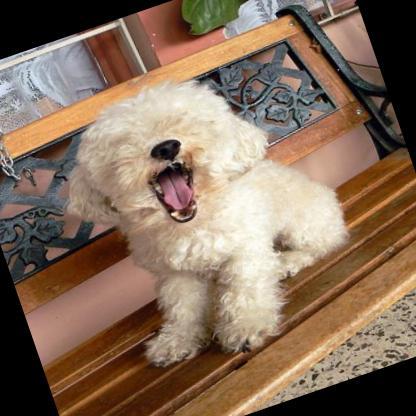toy_poodle: (35, 39, 372, 393)
